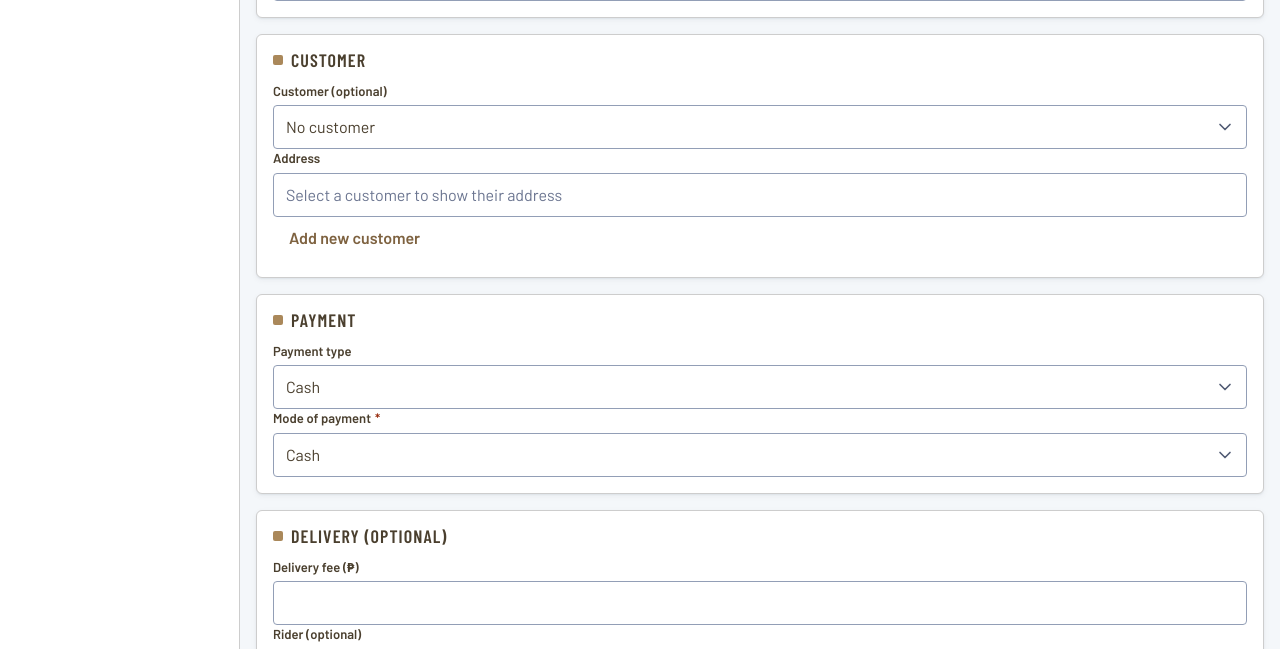
Test: SaleCartPage › hides mode of payment for charge sales and restores it for cash (DEC-045)
The image size is (1280, 649).
(page scrolled)
Step 1. Select "Charge" in the dropdown labelled "Payment type" → (760, 387), box [273,365,1247,409]
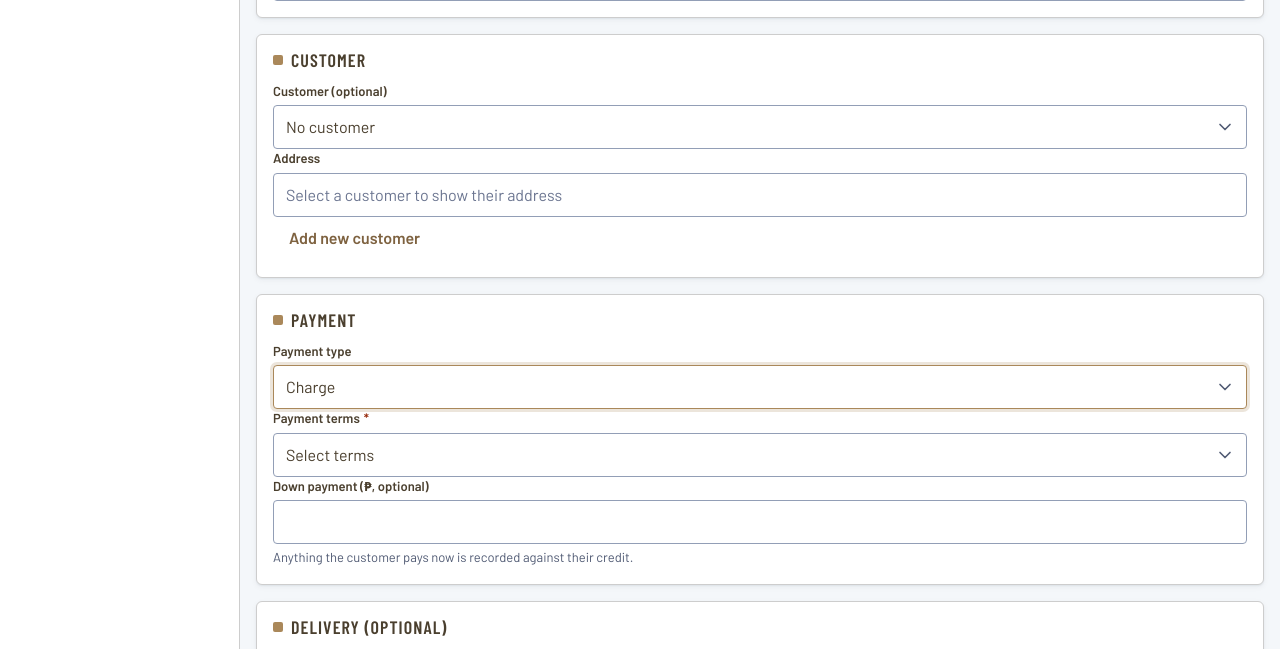
Result: the label labelled "Mode of payment" is gone
Step 2. Select "Cash" in the dropdown labelled "Payment type" → (760, 387), box [273,365,1247,409]
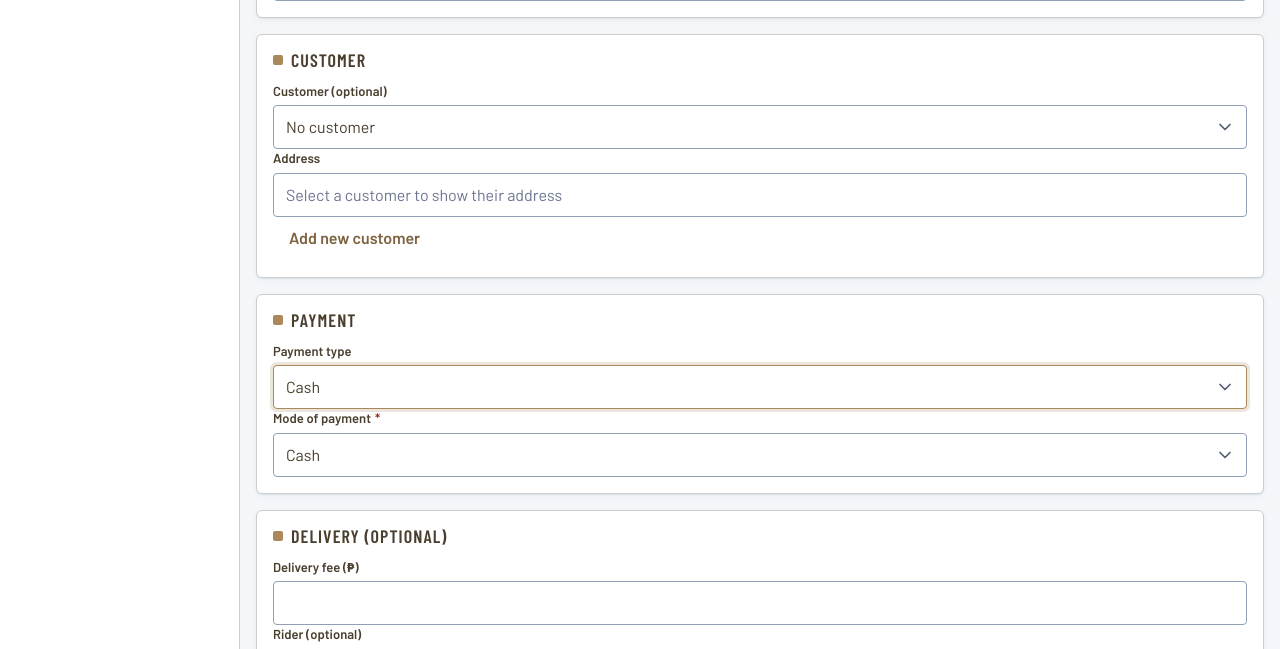
Result: the dropdown labelled "Mode of payment*" is shown at [273,433,1247,477]
